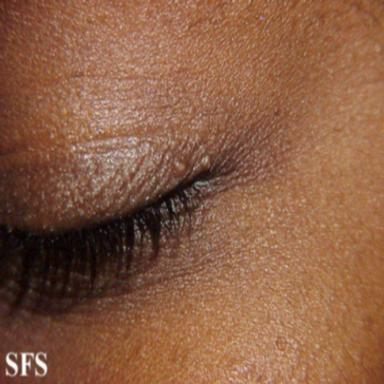Molluscum-Contagiosum: (200, 156, 211, 171), (175, 161, 186, 172)
